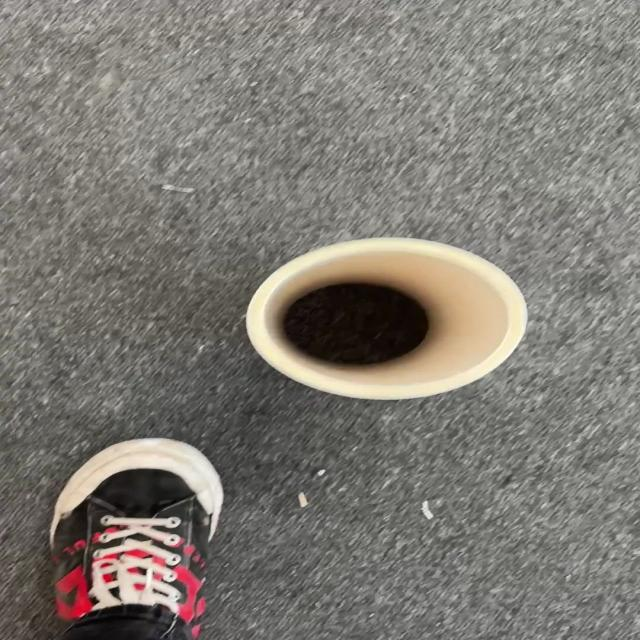Coral: (243, 236, 529, 400)
